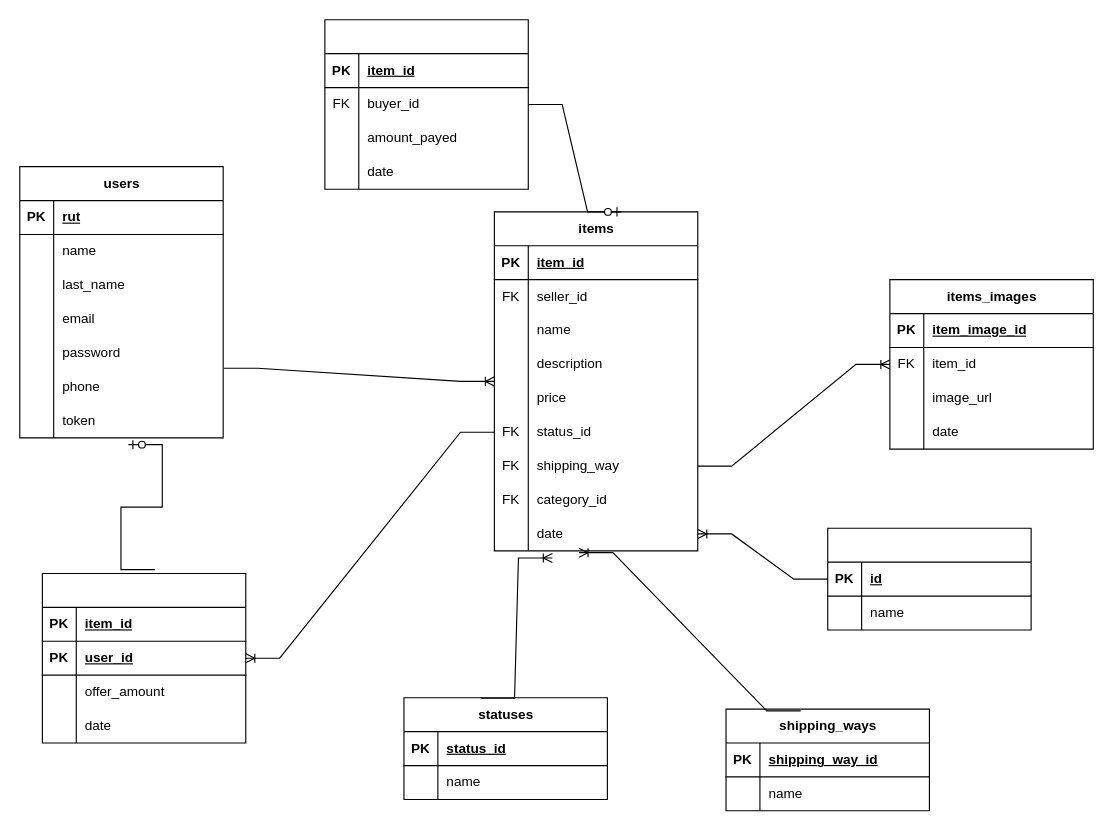
Image size: 1113x831. Some labels were removed from this diagram. The shapes that lost their labels are listed below. From the top down, each one's box as (x1, y1, x2, y2) in pixels, then its label:
(324, 19, 528, 189): orders
(827, 527, 1031, 630): categories
(41, 572, 246, 743): items_offers
